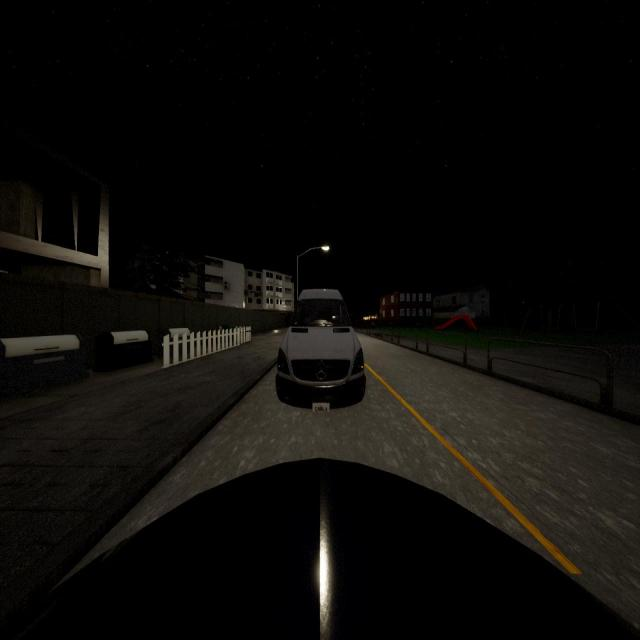Vehicle: (0, 454, 640, 637), (276, 289, 366, 407)
